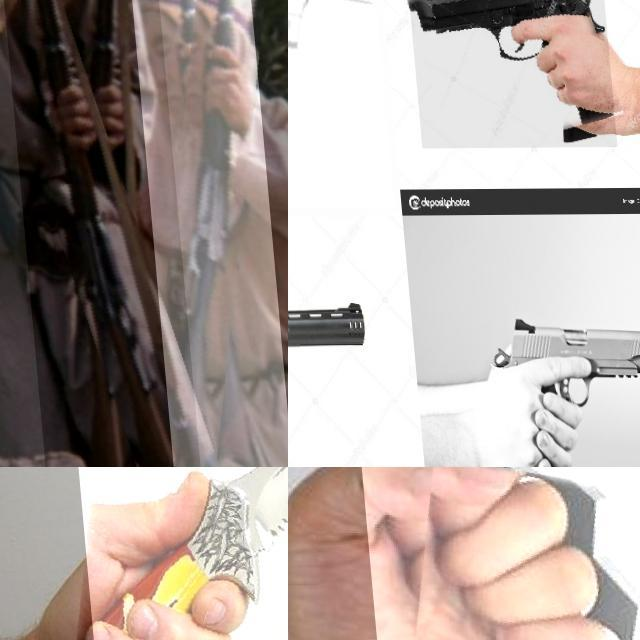-: (359, 467, 640, 640), (56, 467, 288, 640)
gun-knife-thesis - v11 Yolov5 augmented: (0, 0, 196, 467), (126, 0, 282, 467), (288, 0, 455, 210), (404, 0, 612, 149), (479, 314, 640, 467), (288, 295, 387, 450)
